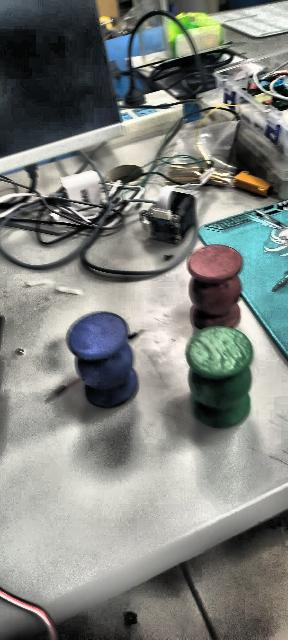blue: (66, 310, 138, 408)
green: (181, 322, 254, 430)
red: (182, 243, 248, 330)
